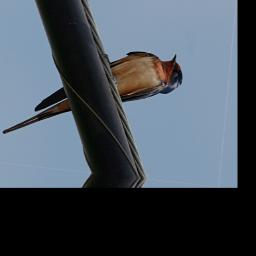Swallow: (2, 36, 187, 154)
